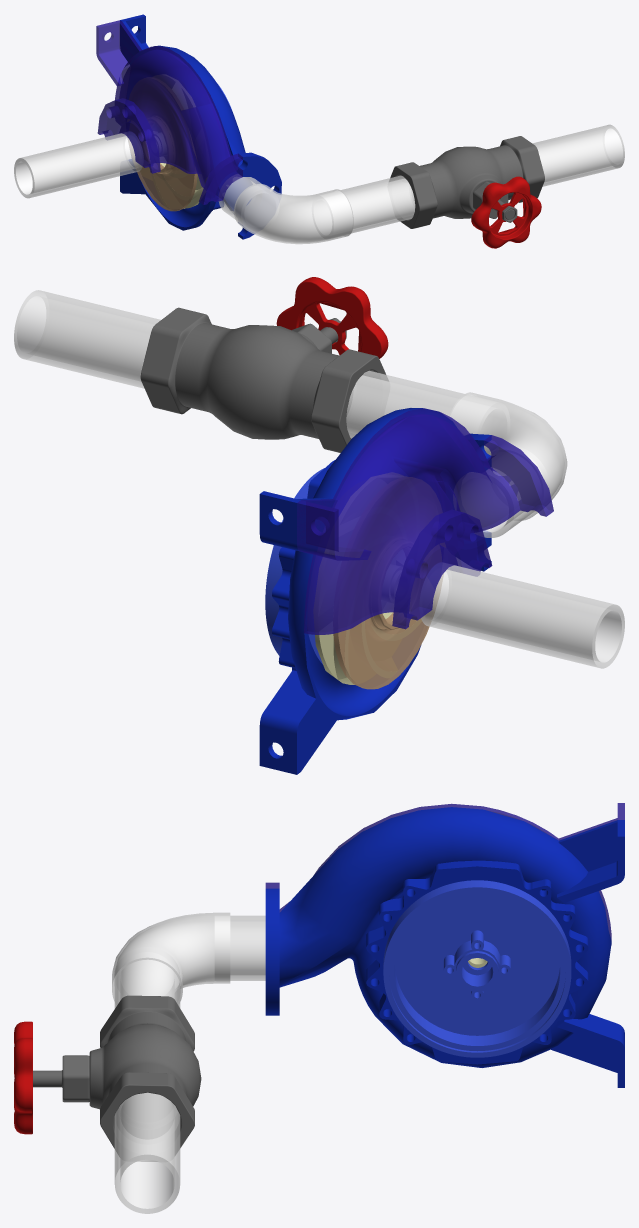
File: prueba.fbx
3 renders of one model, top to bottom at view 1: azimuth 30°, elevation 25°; view 2: azimuth 150°, elevation 25°; view 3: azimuth 270°, elevation 25°, orthographic. The views are drawn at different scales.
Visible parts, largest first — view 1: Cañerias Enteras, Bomba delantera, Bomba trasera, Vaálvula Estructura, Tapa Impulsor, Válvula, Impulsor; view 2: Bomba delantera, Cañerias Enteras, Bomba trasera, Vaálvula Estructura, Tapa Impulsor, Impulsor, Válvula, Tapa trasera; view 3: Bomba trasera, Tapa trasera, Cañerias Enteras, Vaálvula Estructura, Válvula, Bomba delantera.
Boxes of the visible parts, x1,y1,x2,y2 form: Cañerias Enteras: [14, 124, 624, 244]; Bomba delantera: [96, 20, 242, 204]; Bomba trasera: [120, 14, 281, 239]; Vaálvula Estructura: [389, 136, 544, 228]; Tapa Impulsor: [127, 78, 197, 211]; Válvula: [471, 176, 541, 248]; Impulsor: [140, 75, 206, 208]; Bomba delantera: [297, 408, 553, 634]; Cañerias Enteras: [14, 290, 624, 668]; Bomba trasera: [259, 408, 491, 774]; Vaálvula Estructura: [140, 307, 388, 452]; Tapa Impulsor: [333, 477, 445, 689]; Impulsor: [314, 473, 421, 684]; Válvula: [276, 277, 388, 358]; Tapa trasera: [265, 468, 366, 664]; Bomba trasera: [265, 807, 624, 1087]; Tapa trasera: [383, 880, 571, 1057]; Cañerias Enteras: [112, 912, 265, 1213]; Vaálvula Estructura: [33, 995, 201, 1161]; Válvula: [14, 1021, 32, 1134]; Bomba delantera: [265, 803, 624, 944].
Size of the model in its own units: 144 by 52.12 by 109.
